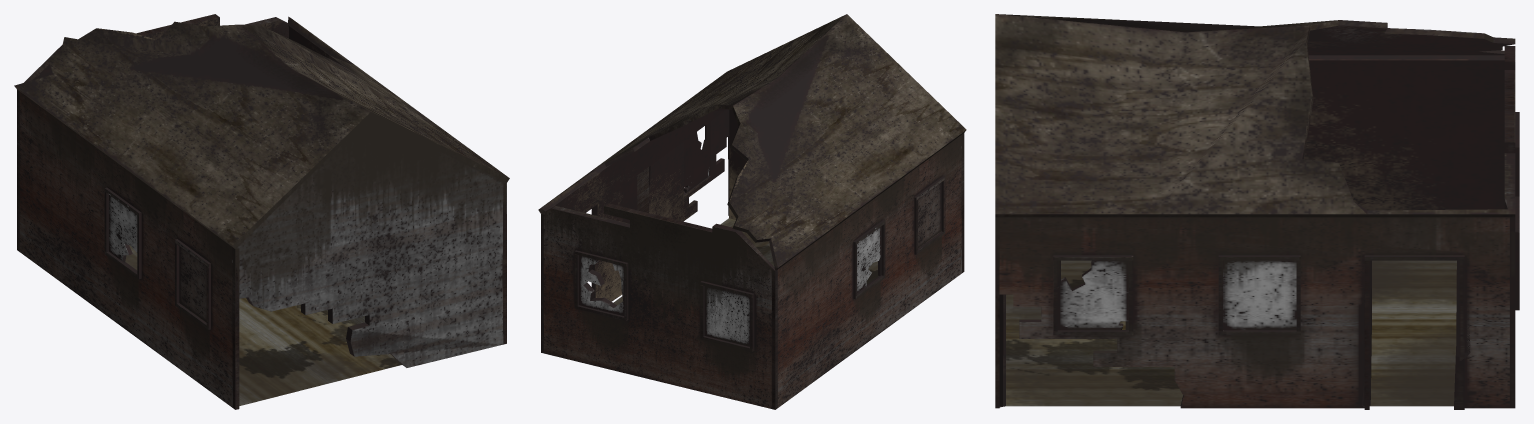
Rendered from House_03.fbx.
3 renders of one model, left to right at view 1: azimuth 30°, elevation 25°; view 2: azimuth 150°, elevation 25°; view 3: azimuth 270°, elevation 25°, orthographic. The views are drawn at different scales.
Parts seen in each view (by area): view 1: Cube; view 2: Cube; view 3: Cube.
Boxes of the visible parts, x1=… form: Cube: x1=14, y1=14, x2=509, y2=409; Cube: x1=538, y1=14, x2=966, y2=409; Cube: x1=995, y1=14, x2=1519, y2=409.
Size of the model in its own units: 551 by 503 by 757.
